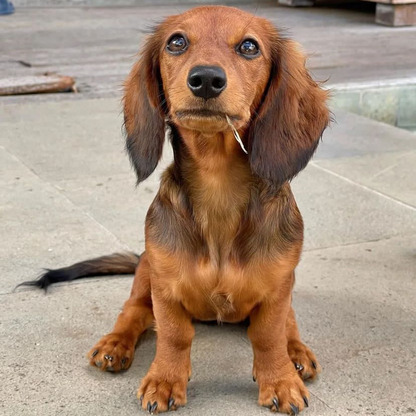dachshund: (90, 17, 391, 403)
